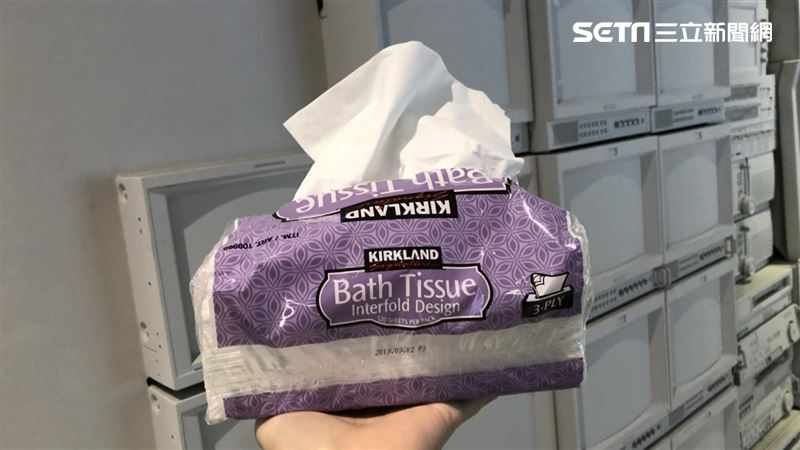tissue: (182, 39, 590, 400)
